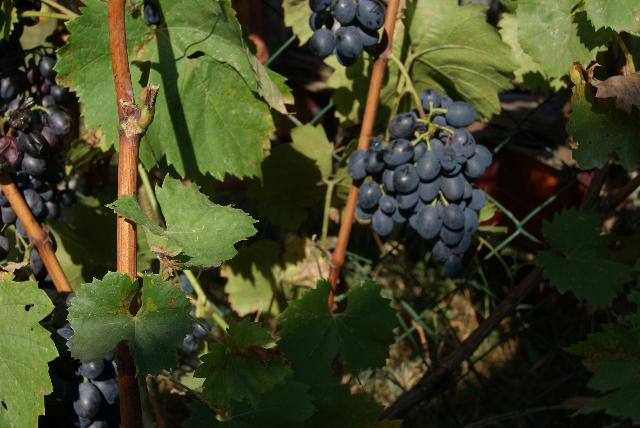grapes: (350, 89, 492, 279)
